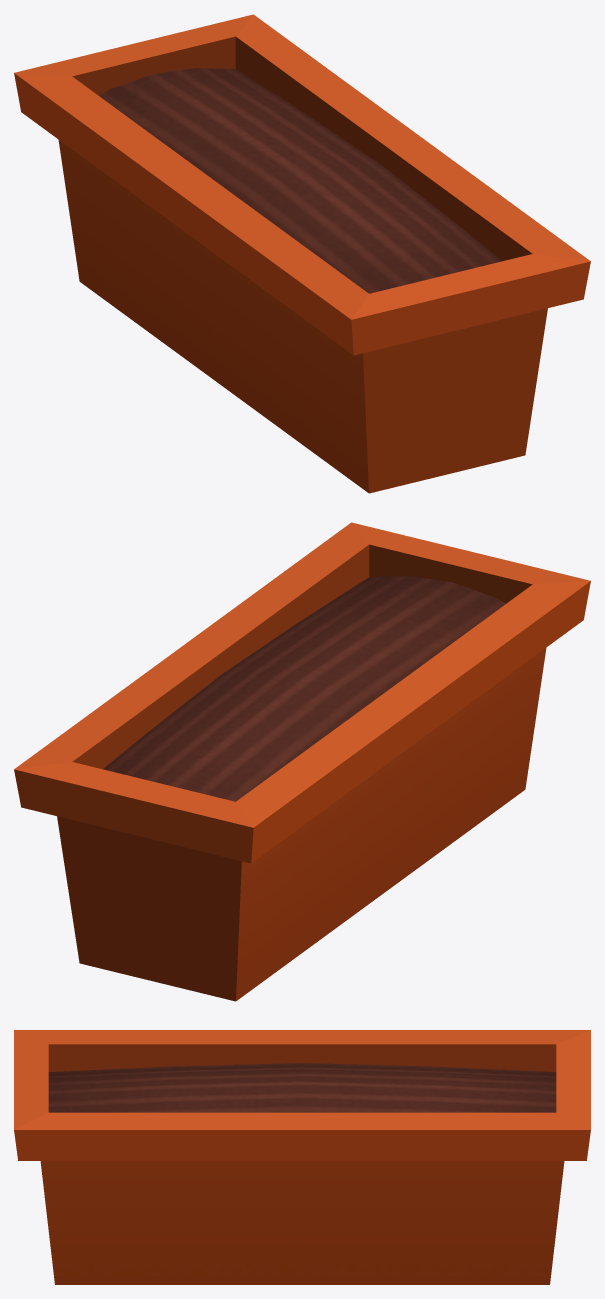
File: MESH_Bac_Fleur_01.fbx
3 views of the same model, one above another, from view 1: azimuth 30°, elevation 25°; view 2: azimuth 150°, elevation 25°; view 3: azimuth 270°, elevation 25° (orthographic). The views are drawn at different scales.
Visible parts, largest first — view 1: MESH_Bac_Fleur_01; view 2: MESH_Bac_Fleur_01; view 3: MESH_Bac_Fleur_01.
Boxes of the visible parts, <box> form: MESH_Bac_Fleur_01: <box>14,14,590,493</box>; MESH_Bac_Fleur_01: <box>14,522,590,1001</box>; MESH_Bac_Fleur_01: <box>14,1030,590,1284</box>.
Size of the model in its own units: 0.4778 by 0.3876 by 1.17.
